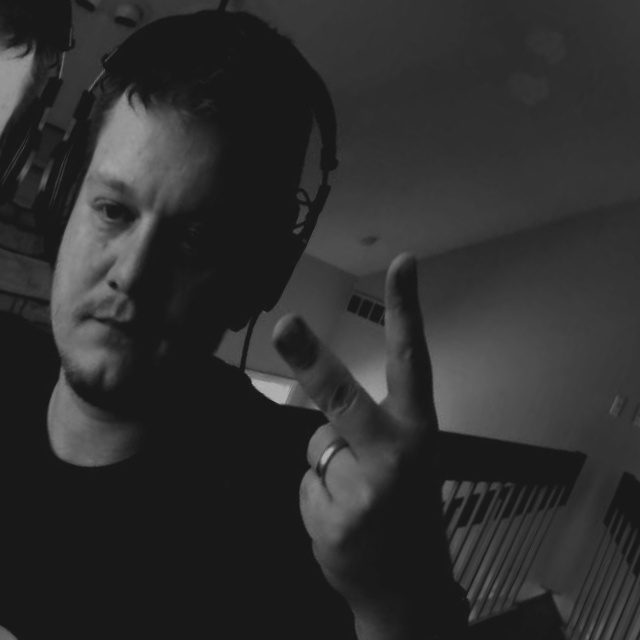Scissors: (172, 212, 578, 640)
